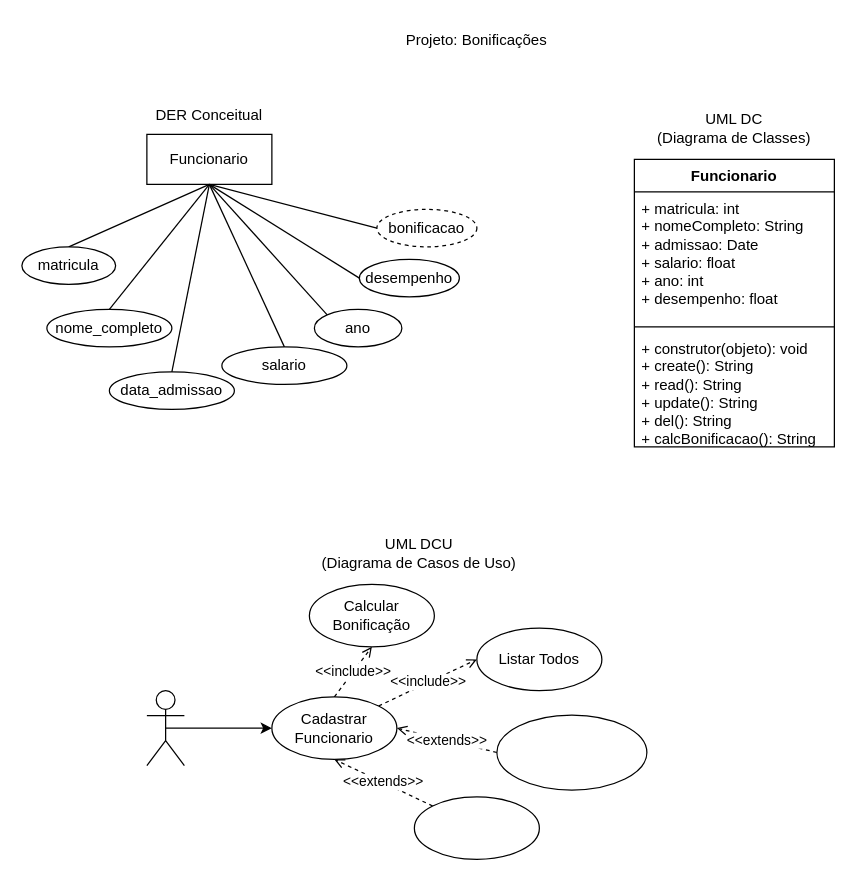
Image size: 856x881. Some labels were removed from this diagram. The shapes that lost their labels are listed below. From the top down, each one's centre as x and y in pixels, then its label:
At (165,727): "Funcionário do Departamento de Pessoal".
At (571,752): "Alterar Dados".
At (476,827): "Excluir".
